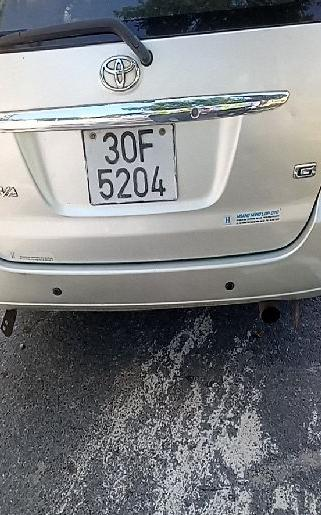Plate-iWeP: (77, 119, 185, 209)
